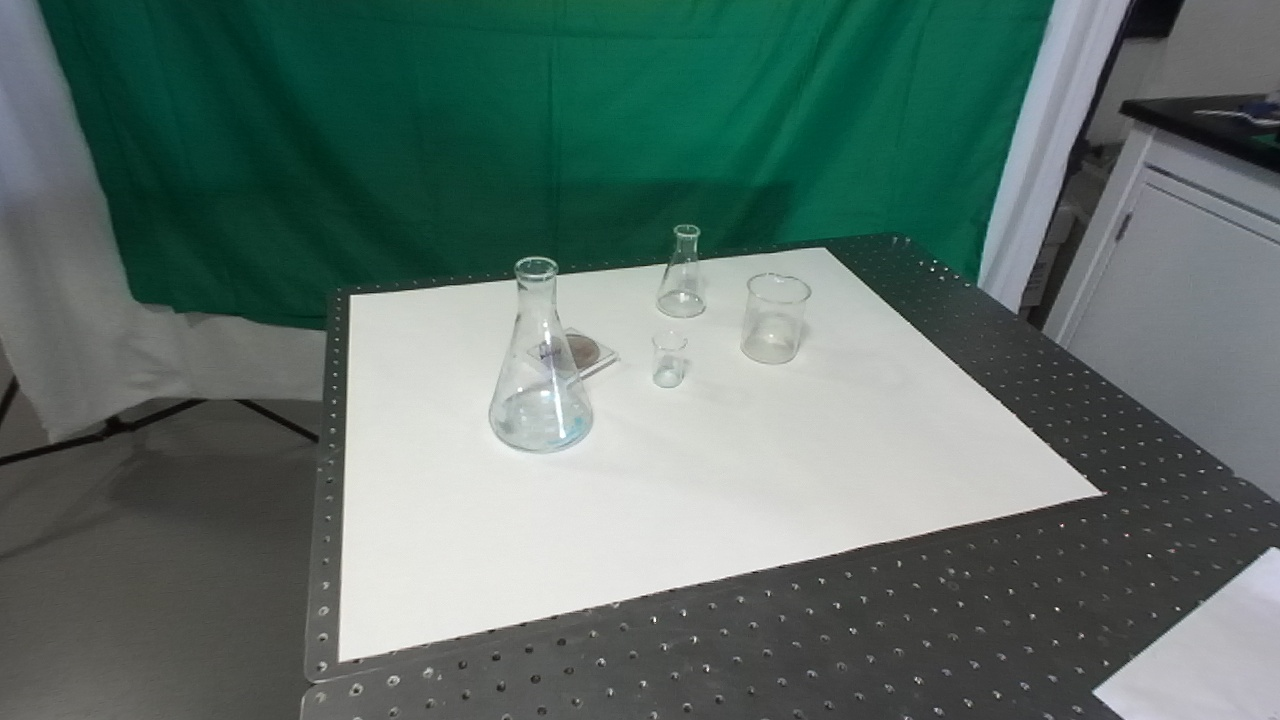glass: (486, 255, 597, 456), (736, 271, 813, 368), (655, 221, 710, 322), (648, 327, 691, 390)
plate: (524, 324, 620, 389)
